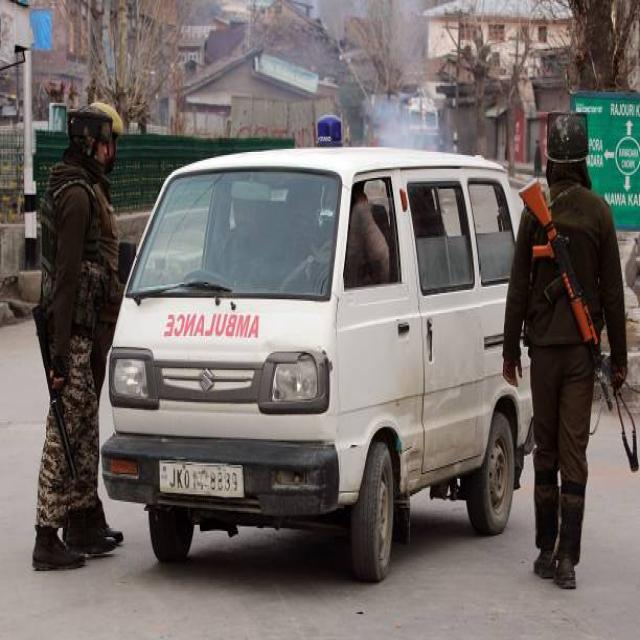ambulance: (103, 116, 549, 588)
